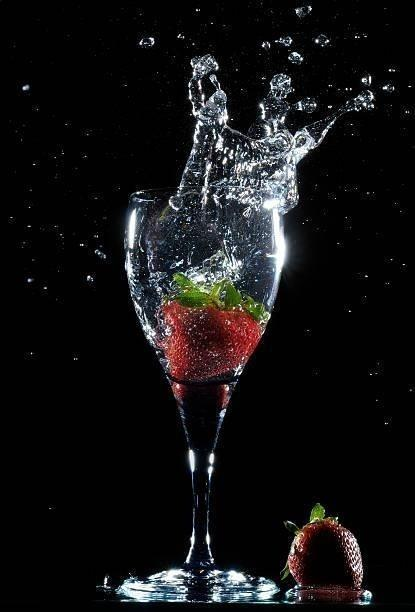glass-wine: (119, 182, 291, 601)
